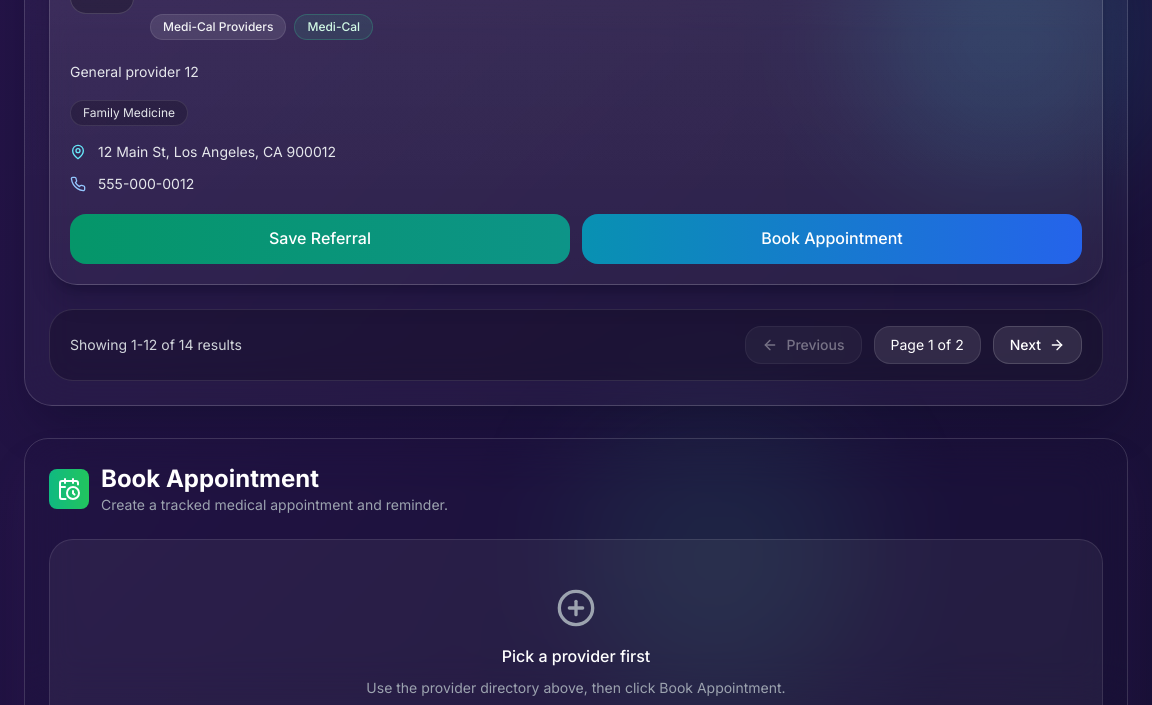
Test: Medical page › paginates provider results with previous and next controls
(page scrolled)
Check: the text "Page 1 of 2" is shown, box left=874, top=326, right=981, bottom=364
Click the button "Next". click: (1037, 345)
box: left=993, top=326, right=1082, bottom=364
(page scrolled)
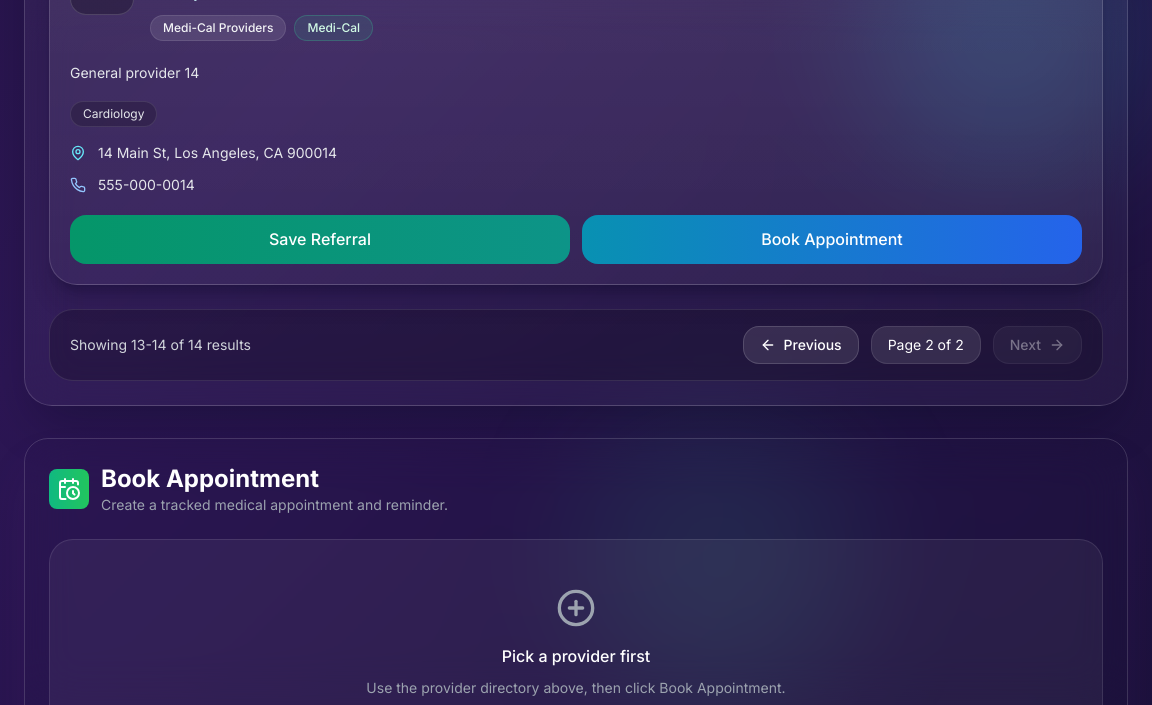
Check: the text "Page 2 of 2" is shown, box left=871, top=326, right=981, bottom=364
